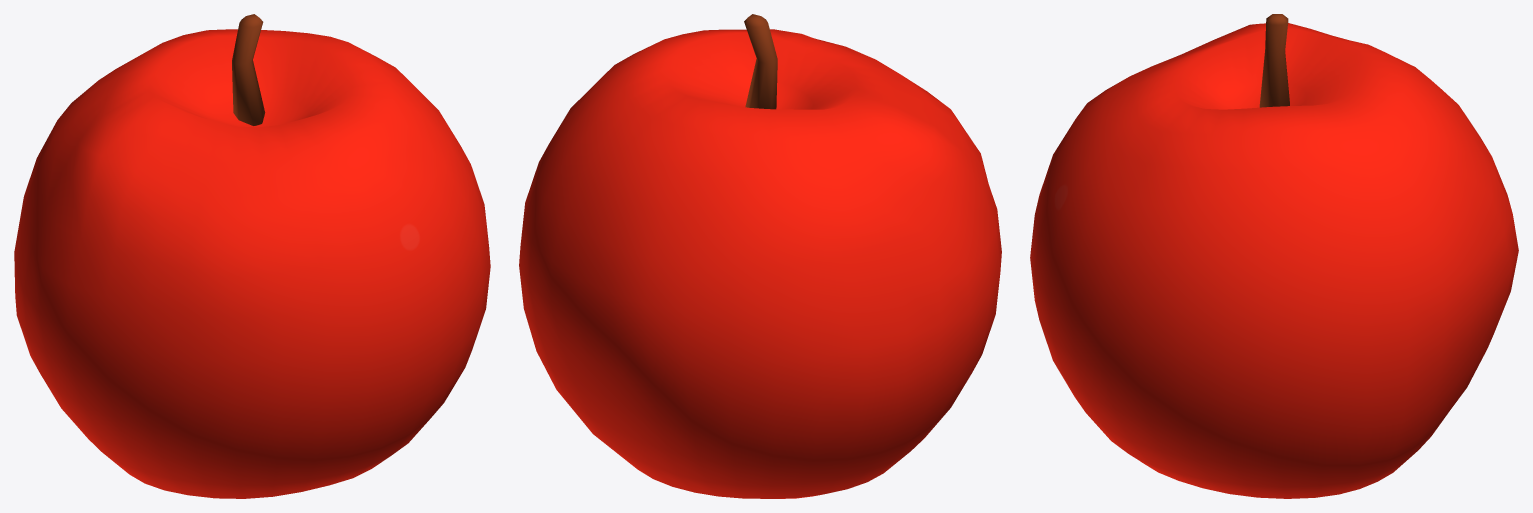
File: tools_apple.glb
The picture shows the model from 3 angles, left to right: view 1: azimuth 30°, elevation 25°; view 2: azimuth 150°, elevation 25°; view 3: azimuth 270°, elevation 25°; orthographic projection.
Parts seen in each view (by area): view 1: Cube; view 2: Cube; view 3: Cube.
Part boxes in pixels (box(x1,y1,x2,y2)): Cube: box(14, 14, 490, 498); Cube: box(519, 14, 1001, 498); Cube: box(1030, 14, 1518, 498).
Bounding box in the file's own units: 2.01 × 2.02 × 2.01.
Materials: 1 (1 with a texture image).
